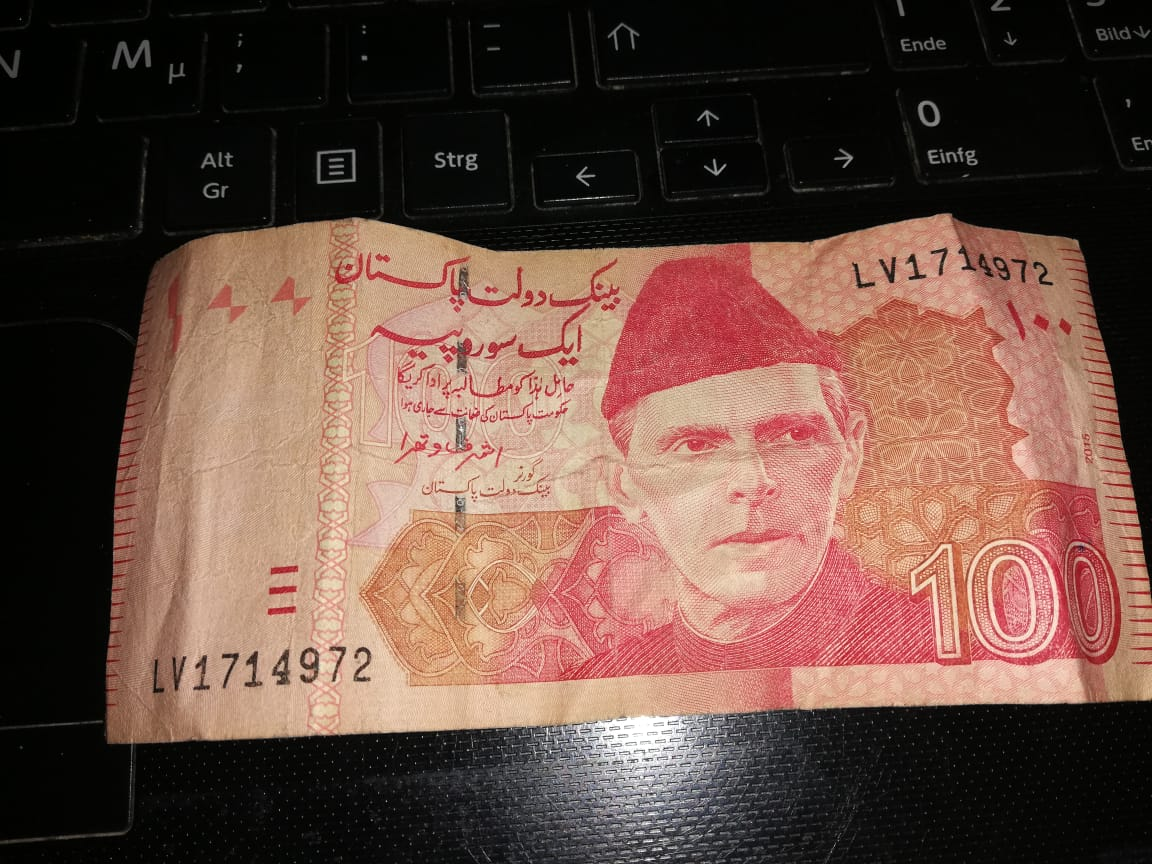100 rupee: (83, 175, 1126, 818)
